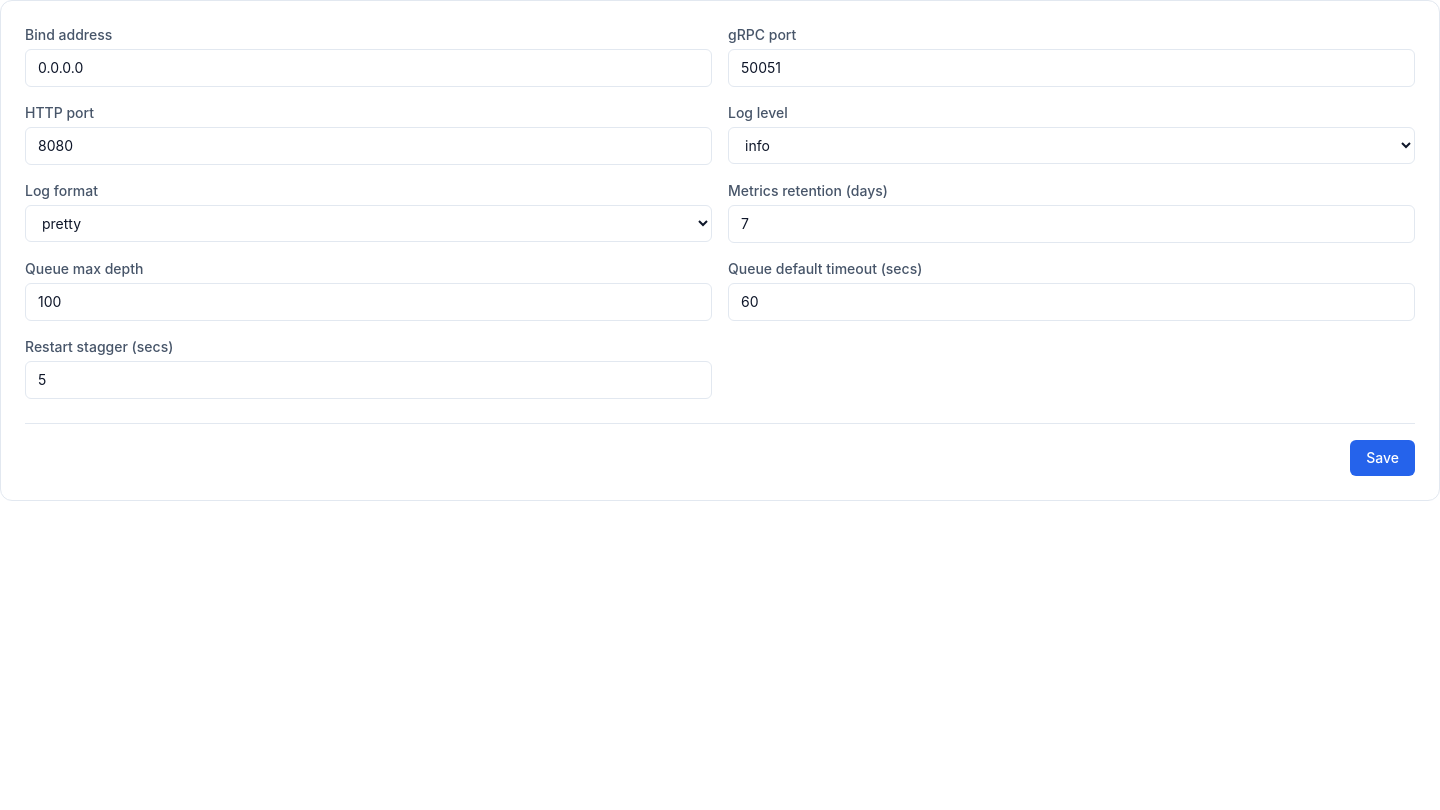
GlobalSettingsEditor › surfaces a conflict banner on 409 and reloads + rebases on click
// Make a change so submit proceeds, then save.
Replace the text in the number field labelled "gRPC port" with "50052" at (1072, 68), box 728,49 -> 1415,87
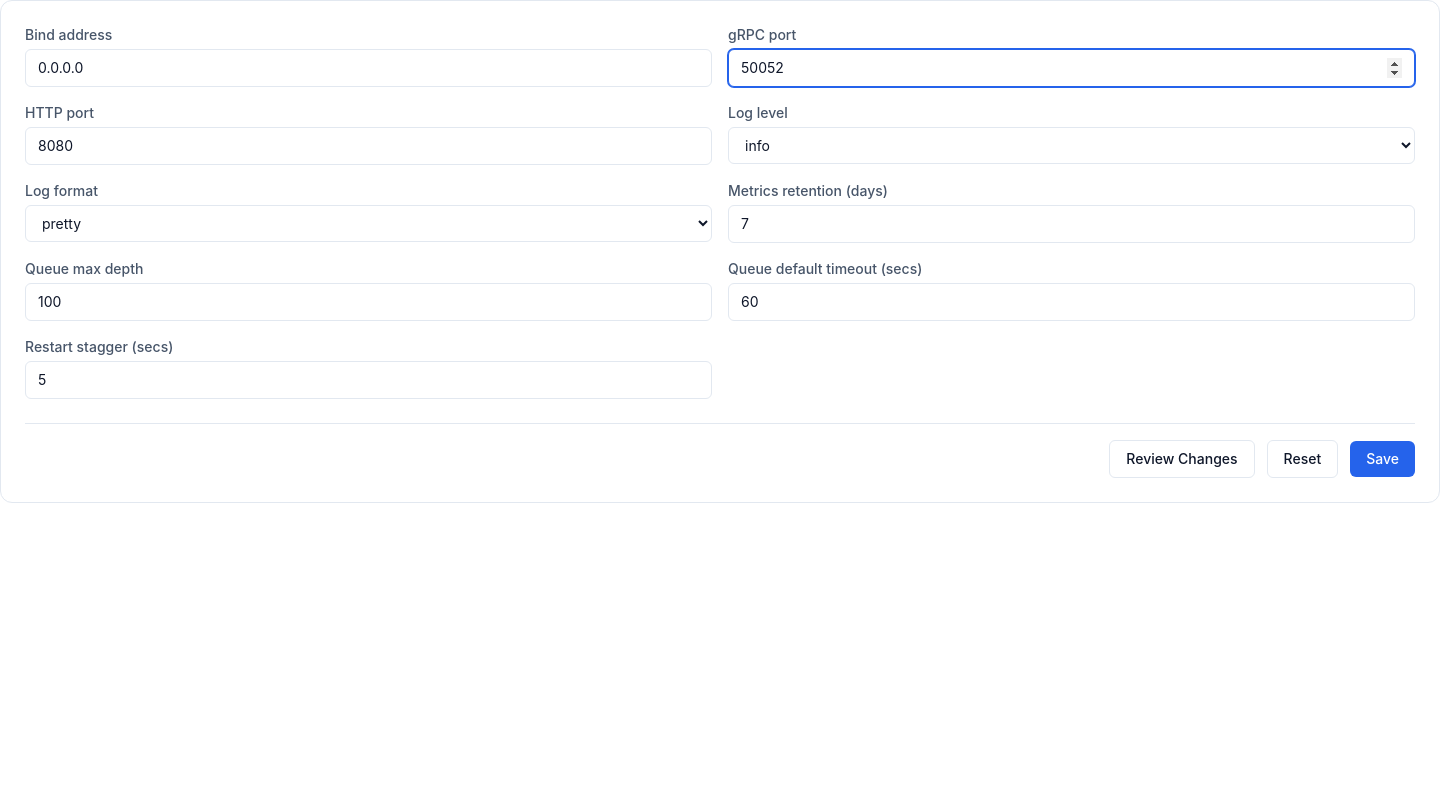
Click the button "Save".
click(1383, 459)  # box 1350,441 -> 1415,477
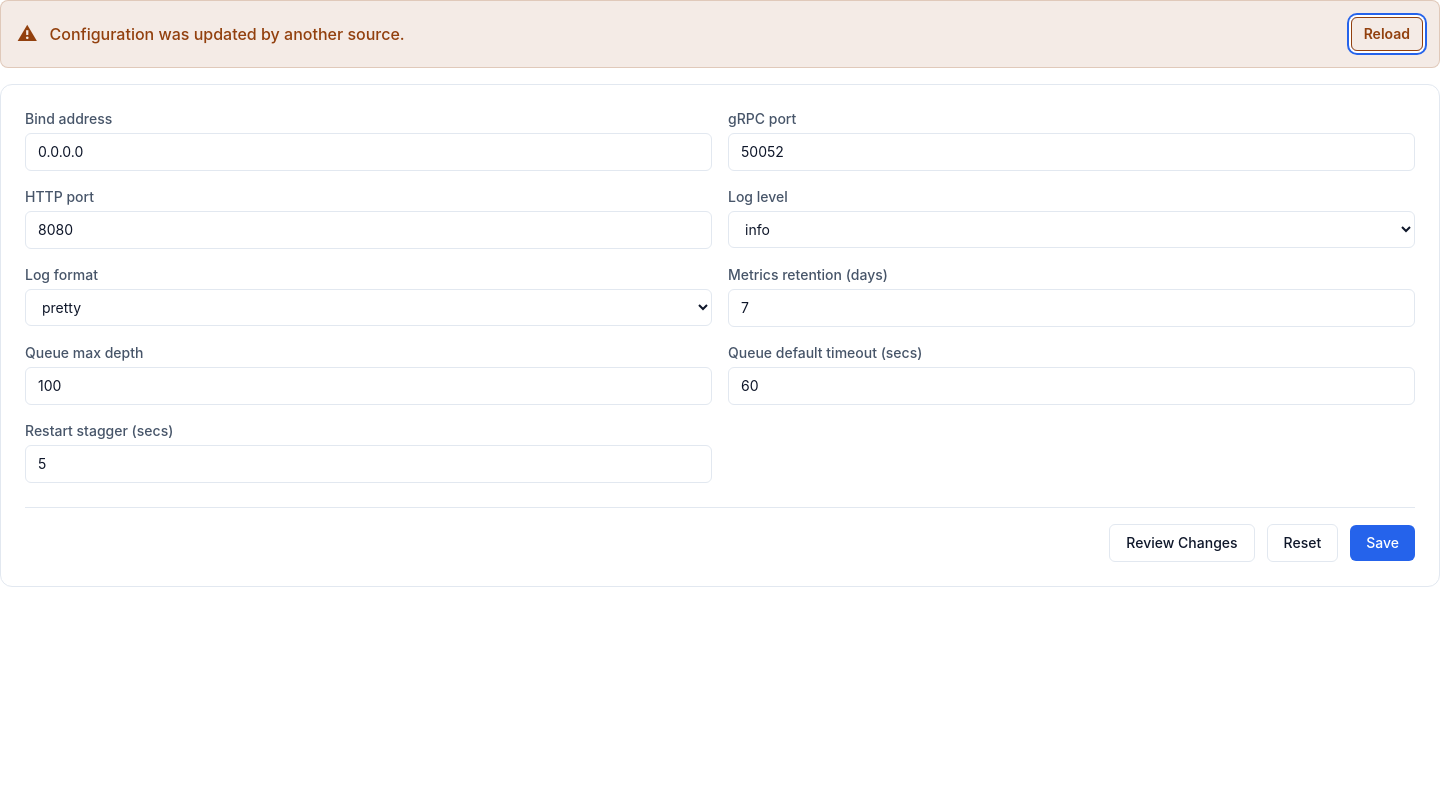
Check: the text "Configuration was updated by another source." is shown, box 50,24 -> 405,44
// Click the Reload action in the banner.
Click the button "Reload".
click(1387, 34)  # box 1351,17 -> 1423,51
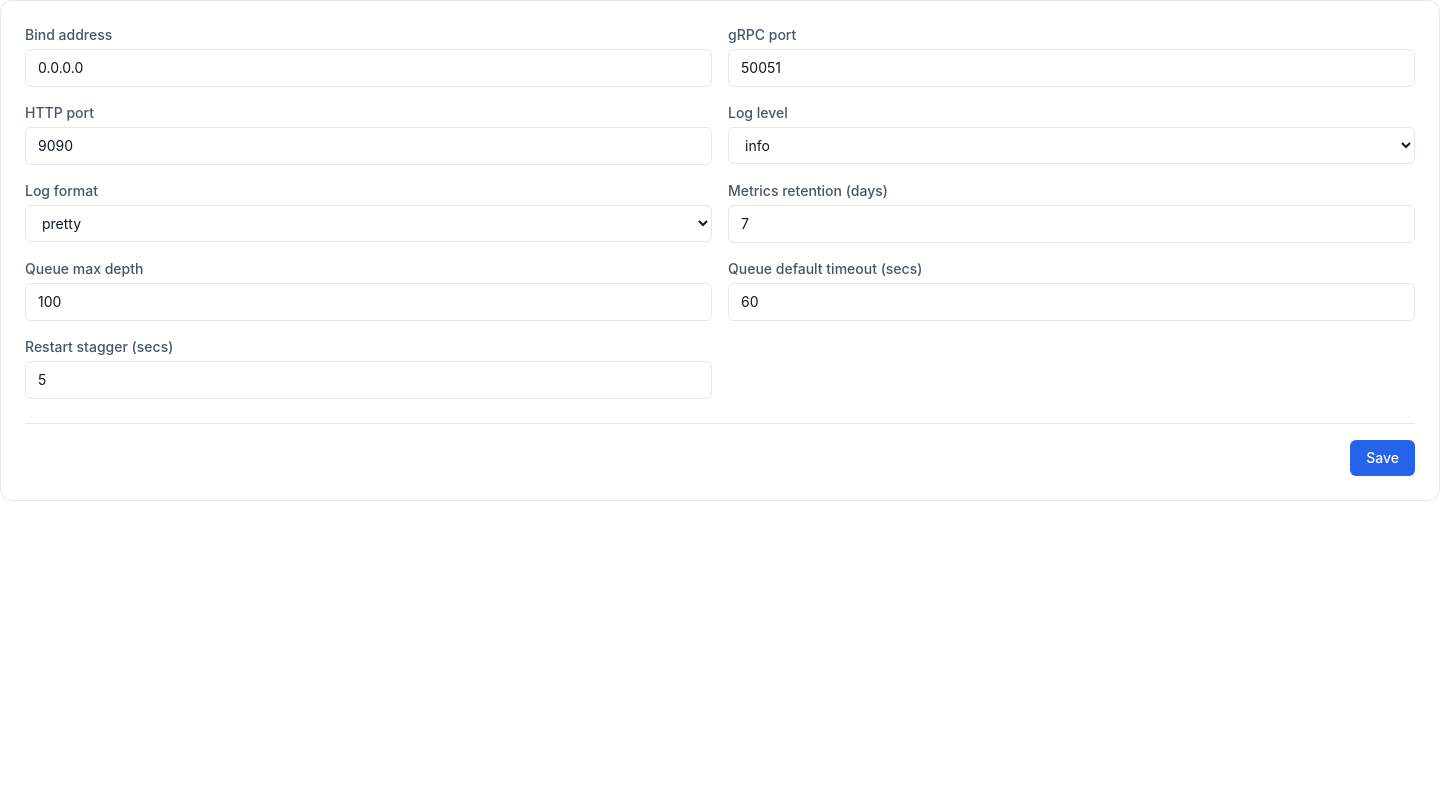
Check: the text "Configuration was updated by another source." is gone
Check: the number field labelled "HTTP port" holds "9090", box 25,127 -> 712,165
